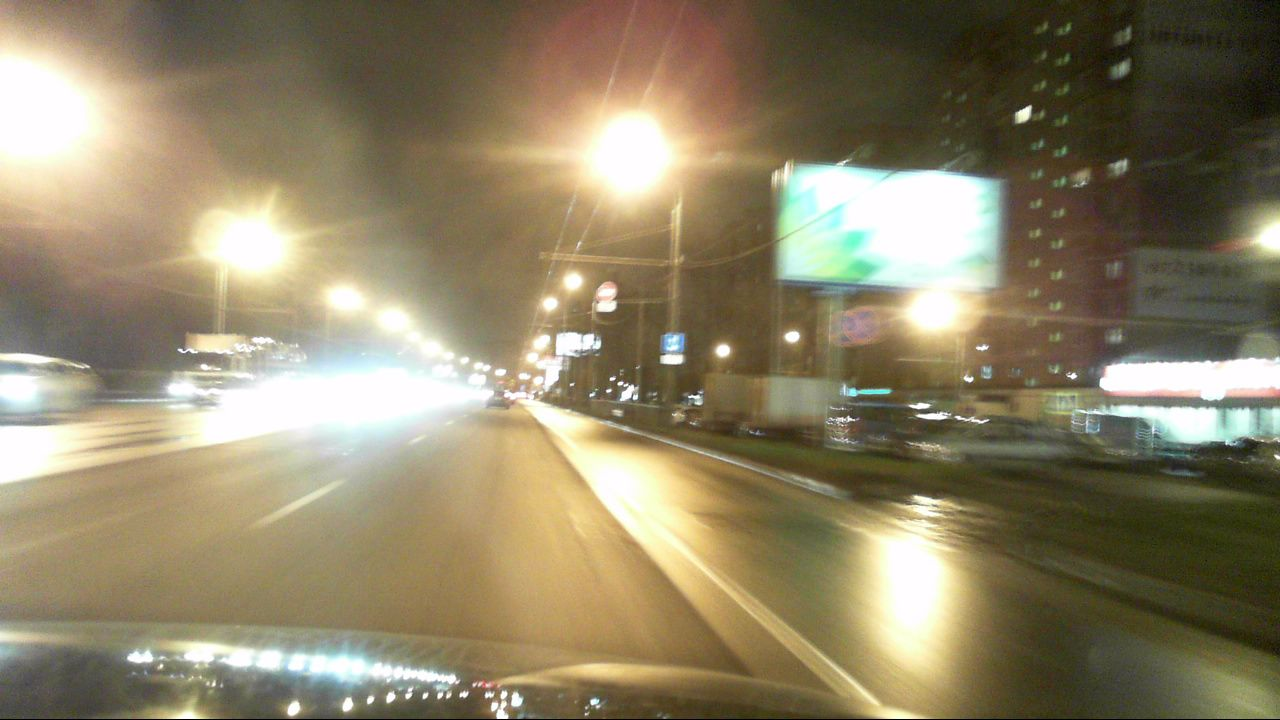No Parking: (841, 307, 879, 342)
